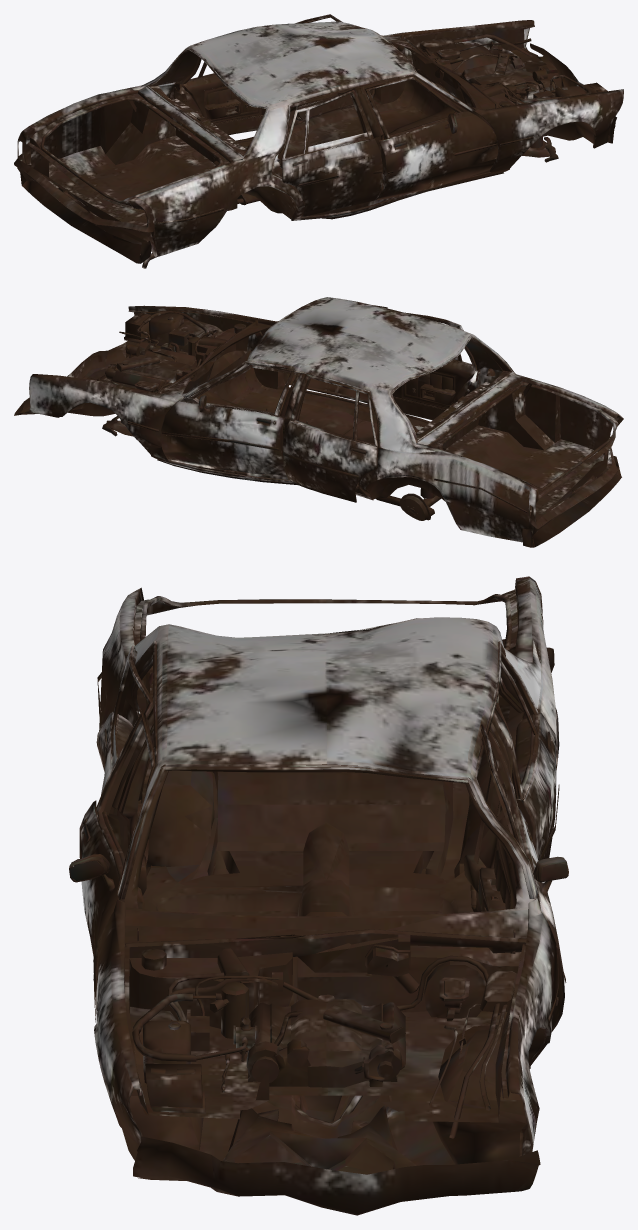
The model's file is junk-car.glb.
3 renders of one model, top to bottom at view 1: azimuth 30°, elevation 25°; view 2: azimuth 150°, elevation 25°; view 3: azimuth 270°, elevation 25°, orthographic. The views are drawn at different scales.
Visible parts, largest first — view 1: Object026_Material #8770_0, Object026_Material #9428_0, Object026_Material #9537_0, Object026_Material #9077_0, Object026_Material #9575_0; view 2: Object026_Material #8770_0, Object026_Material #9428_0, Object026_Material #9537_0, Object026_Material #9077_0, Object026_Material #9575_0; view 3: Object026_Material #8770_0, Object026_Material #9575_0, Object026_Material #9537_0, Object026_Material #9428_0, Object026_Material #9077_0.
Boxes of the visible parts, box(x1,y1,x2,y2) form: Object026_Material #8770_0: box(14, 14, 623, 257); Object026_Material #9428_0: box(30, 15, 476, 226); Object026_Material #9537_0: box(38, 26, 607, 218); Object026_Material #9077_0: box(20, 24, 609, 268); Object026_Material #9575_0: box(112, 42, 616, 242); Object026_Material #8770_0: box(15, 297, 623, 542); Object026_Material #9428_0: box(182, 338, 612, 520); Object026_Material #9537_0: box(89, 310, 612, 524); Object026_Material #9077_0: box(102, 298, 621, 547); Object026_Material #9575_0: box(14, 344, 457, 501); Object026_Material #8770_0: box(79, 576, 564, 1179); Object026_Material #9575_0: box(113, 712, 546, 1215); Object026_Material #9537_0: box(102, 714, 534, 1138); Object026_Material #9428_0: box(72, 600, 533, 1059); Object026_Material #9077_0: box(69, 594, 568, 1133).
Size of the model in its own units: 4.46 by 1.12 by 1.82.
Materials: 5 (5 with a texture image).
